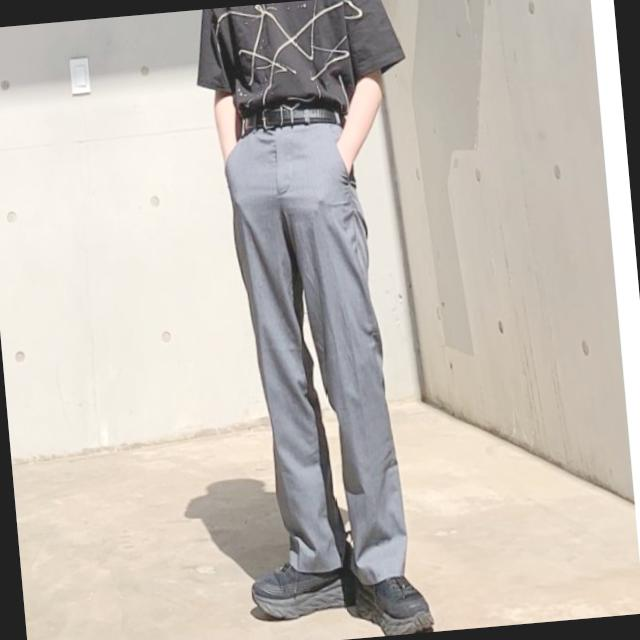shortsleeve: (191, 0, 406, 117)
slacks: (223, 116, 410, 593)
